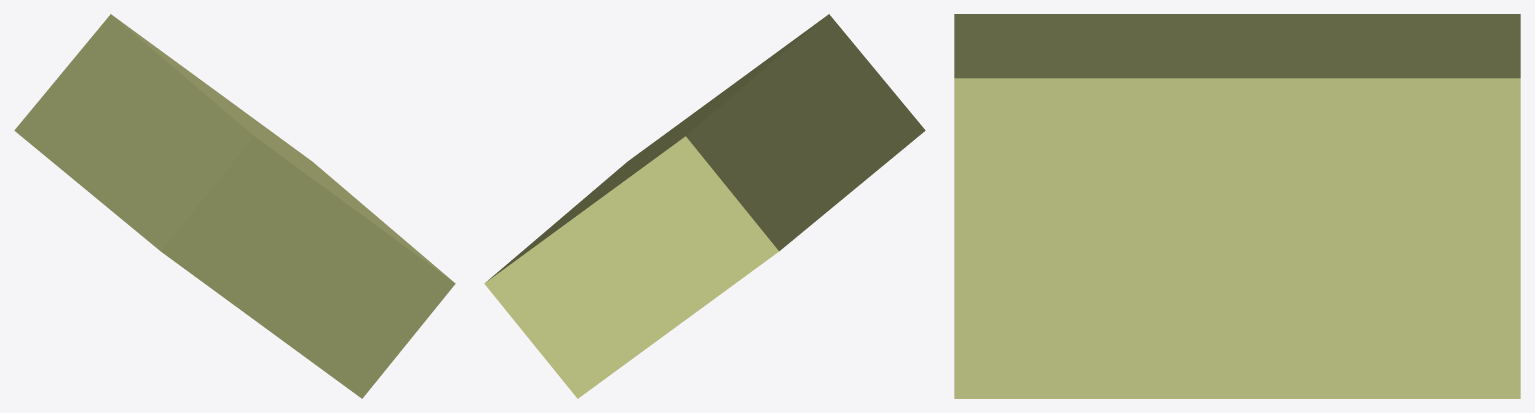
3 views of the same model, side by side, from view 1: azimuth 30°, elevation 25°; view 2: azimuth 150°, elevation 25°; view 3: azimuth 270°, elevation 25° (orthographic). The views are drawn at different scales.
Parts seen in each view (by area): view 1: 0_1_2_0_0_1_2_2_1_2_3; view 2: 0_1_2_0_0_1_2_2_1_2_3; view 3: 0_1_2_0_0_1_2_2_1_2_3.
Boxes of the visible parts, x1,y1,x2,y2 form: 0_1_2_0_0_1_2_2_1_2_3: (14, 14, 455, 398); 0_1_2_0_0_1_2_2_1_2_3: (484, 14, 925, 398); 0_1_2_0_0_1_2_2_1_2_3: (954, 14, 1520, 398).
Bounding box in the file's own units: 4.12 × 4.1 × 6.
